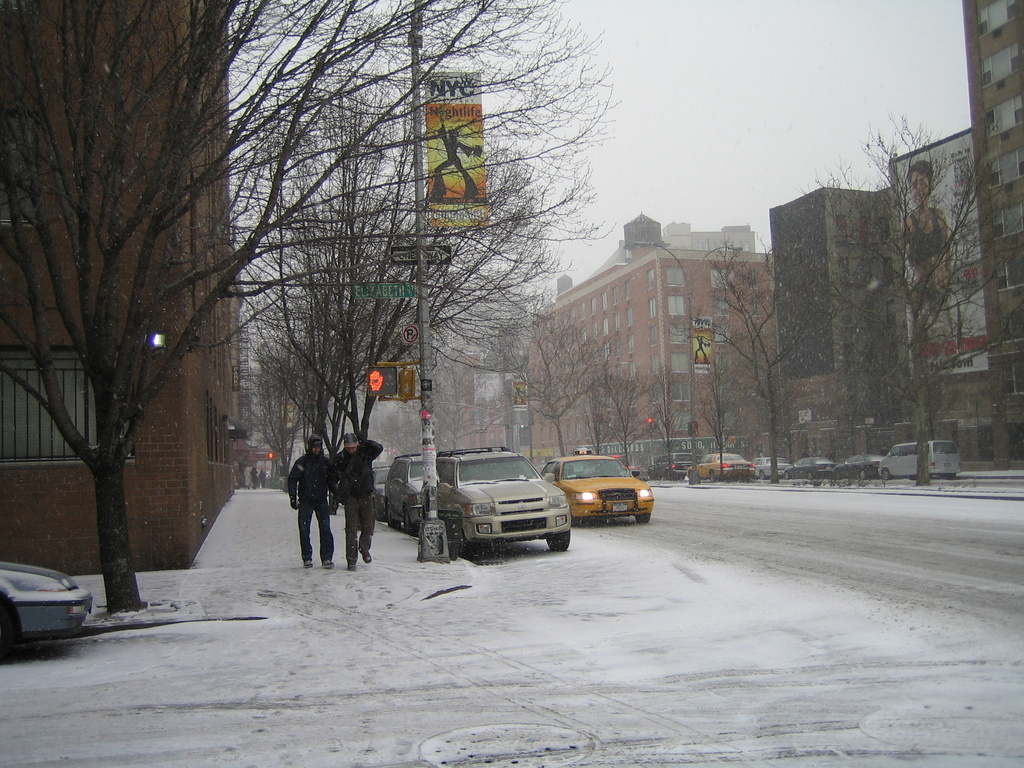mobil: (433, 451, 574, 559), (533, 451, 656, 534)
